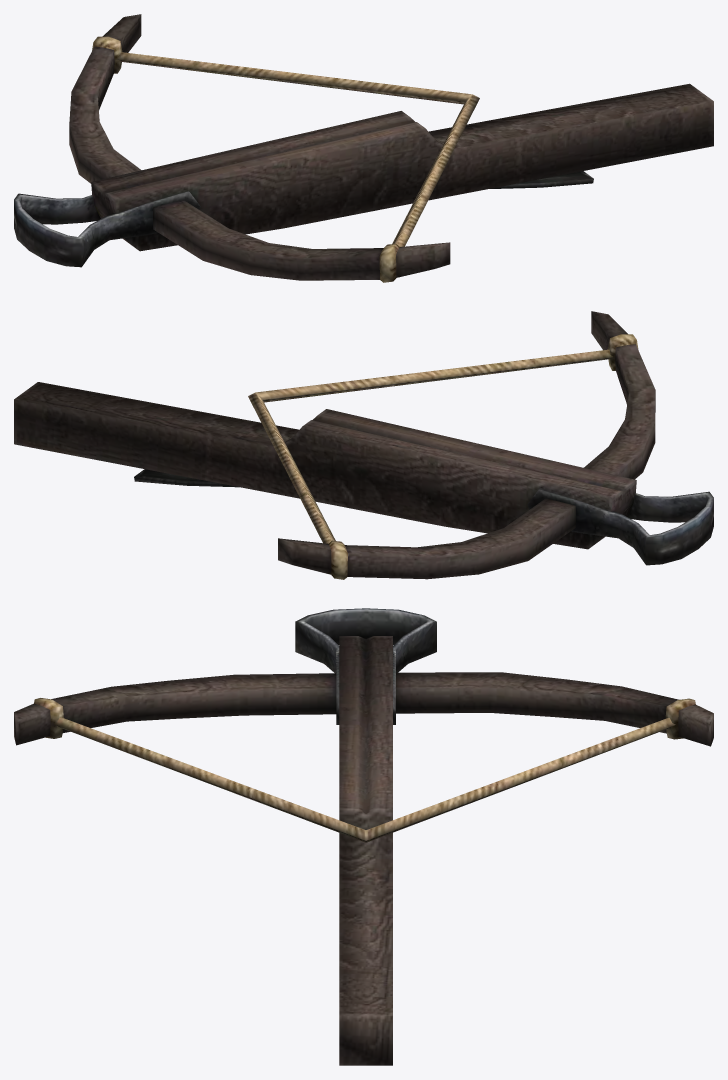
The model's file is KMCROSSBOW01.glb.
3 views of the same model, one above another, from view 1: azimuth 30°, elevation 25°; view 2: azimuth 150°, elevation 25°; view 3: azimuth 270°, elevation 25° (orthographic). The views are drawn at different scales.
Parts seen in each view (by area): view 1: KMCROSSBOW01; view 2: KMCROSSBOW01; view 3: KMCROSSBOW01.
Part boxes in pixels (bbox=[...]): KMCROSSBOW01: bbox=[14, 14, 713, 282]; KMCROSSBOW01: bbox=[14, 311, 713, 579]; KMCROSSBOW01: bbox=[14, 608, 713, 1065].
Size of the model in its own units: 0.6523 by 0.114 by 0.5264.
Materials: 1 (1 with a texture image).
